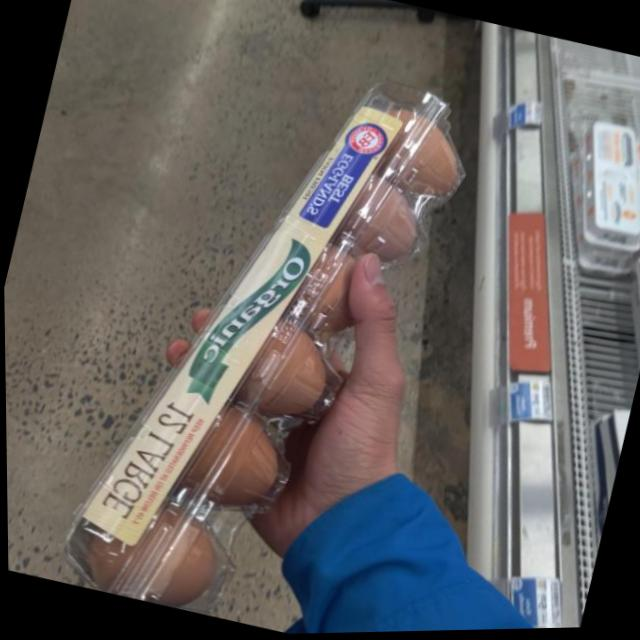Eggs: (43, 32, 481, 639)
